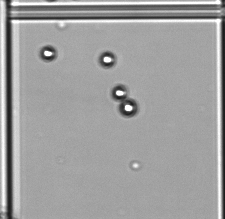Living Cell: (119, 99, 137, 118), (39, 44, 55, 61), (111, 85, 127, 101), (100, 52, 115, 68)
